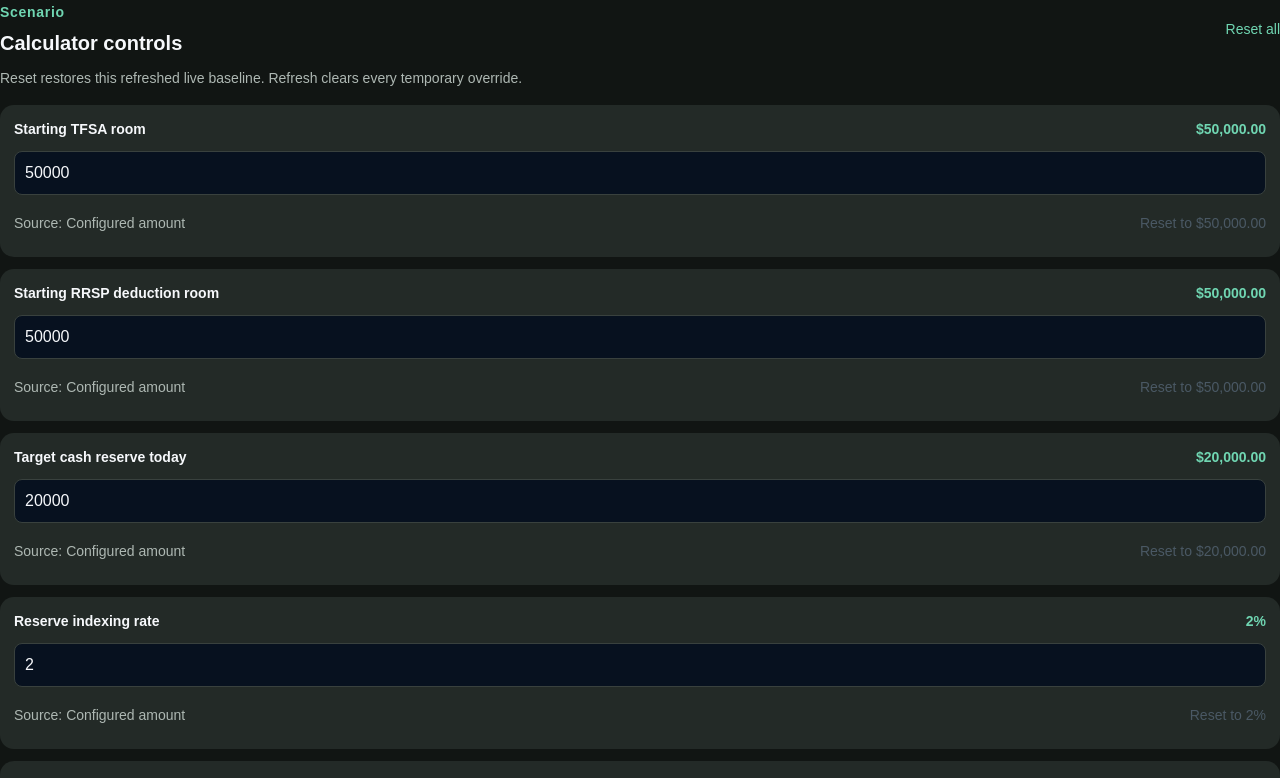
Test case: precise scenario input semantics › accepts negative values only when the configured range allows them
Replace the text in the number field labelled "Reserve indexing rate" with "-5.25" at {"x": 640, "y": 665}, box [14, 643, 1266, 687]
(page scrolled)
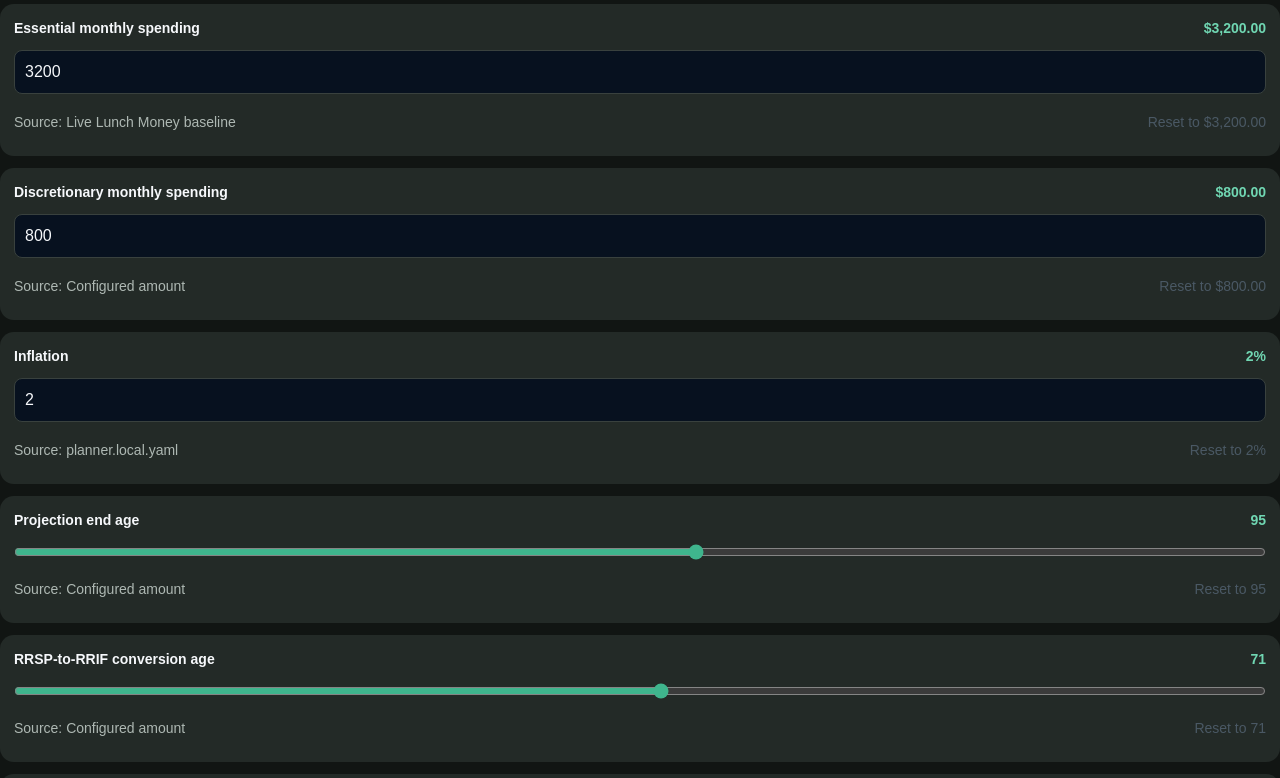
Replace the text in the number field labelled "Inflation" with "-1" at {"x": 640, "y": 400}, box [14, 378, 1266, 422]
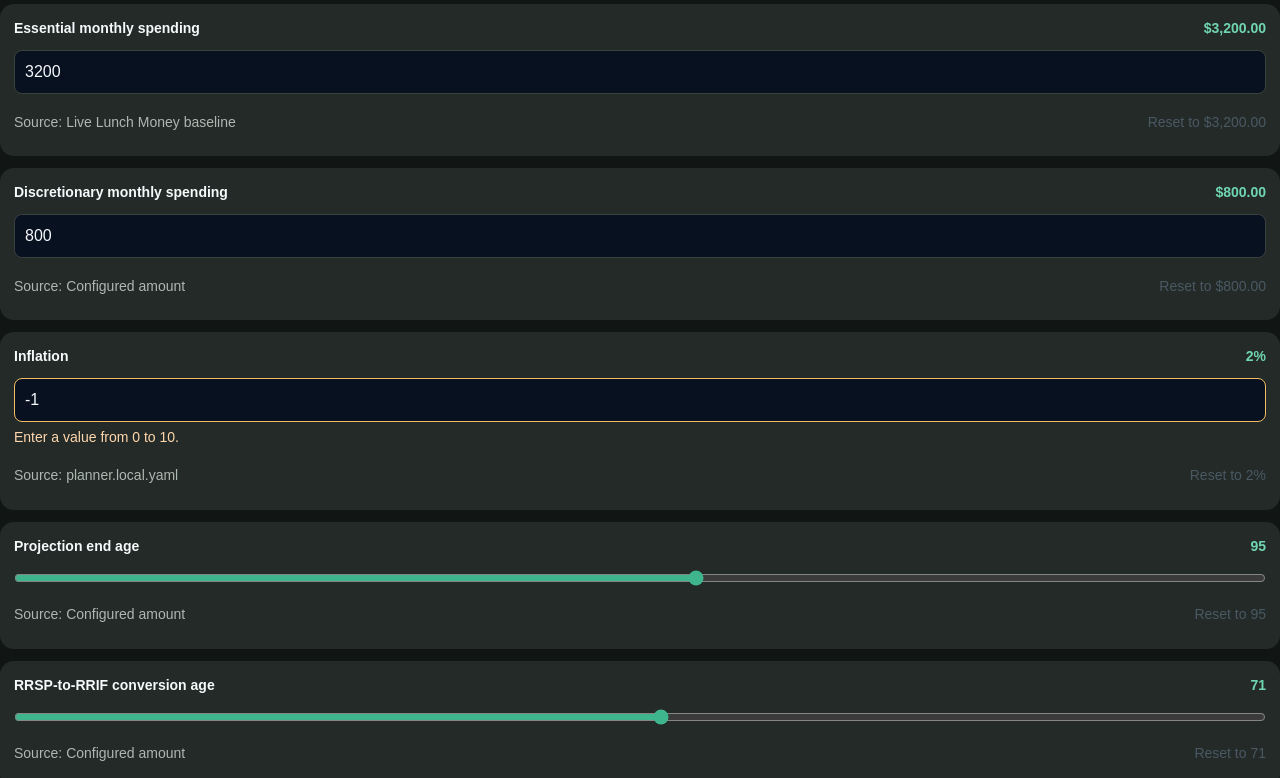
Now the text "Enter a value from 0 to 10." is shown, box [14, 429, 179, 445]
